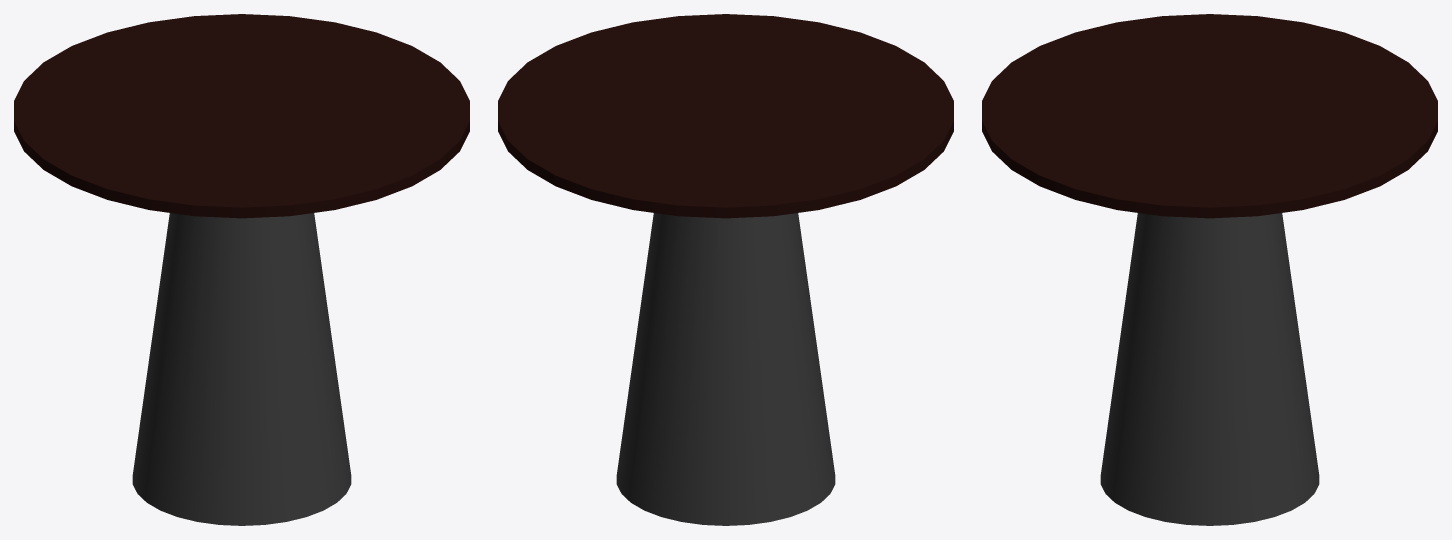
File: F_table_0023.fbx
3 views of the same model, side by side, from view 1: azimuth 30°, elevation 25°; view 2: azimuth 150°, elevation 25°; view 3: azimuth 270°, elevation 25° (orthographic).
Parts seen in each view (by area): view 1: Cylinder01, Cylinder02; view 2: Cylinder01, Cylinder02; view 3: Cylinder01, Cylinder02.
Boxes of the visible parts, bbox=[...] form: Cylinder01: bbox=[14, 14, 469, 218]; Cylinder02: bbox=[132, 213, 351, 525]; Cylinder01: bbox=[498, 14, 953, 218]; Cylinder02: bbox=[616, 213, 835, 525]; Cylinder01: bbox=[982, 14, 1437, 218]; Cylinder02: bbox=[1100, 213, 1319, 525].
Bounding box in the file's own units: 580 × 515 × 577.
